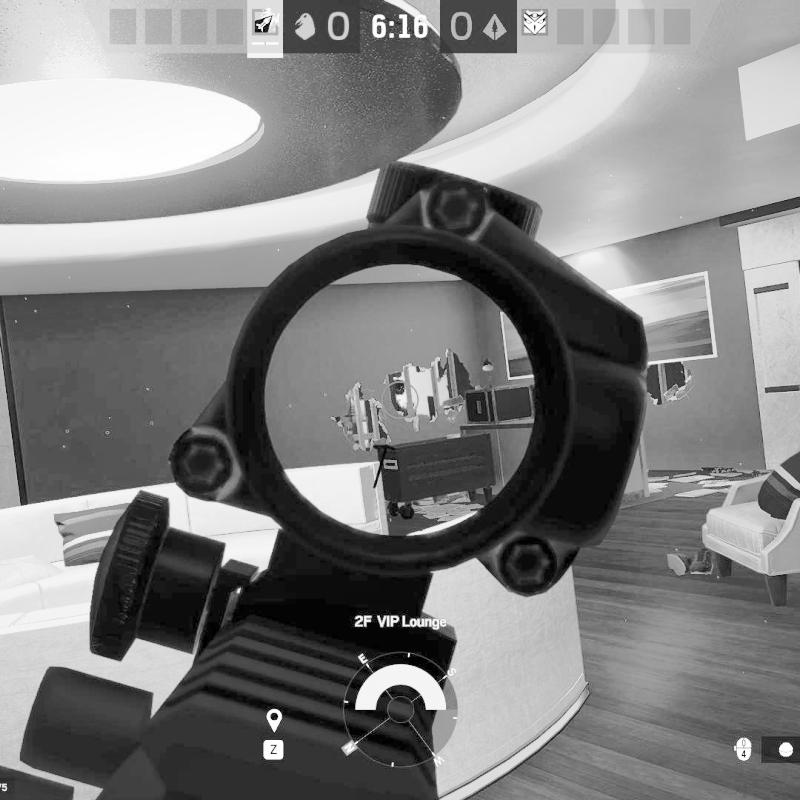Character: (392, 378, 407, 410)
Head: (392, 380, 407, 394)
